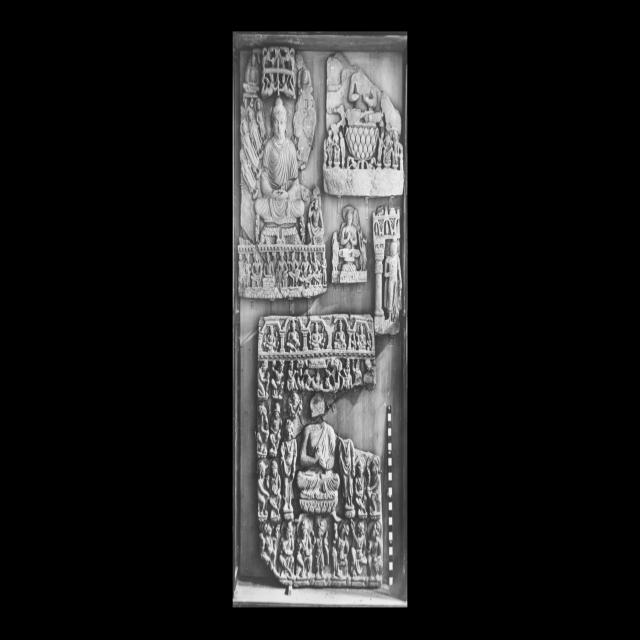buddha-sitting: (255, 98, 305, 244), (298, 393, 340, 513), (259, 316, 374, 356), (345, 71, 382, 167), (332, 204, 368, 284)
